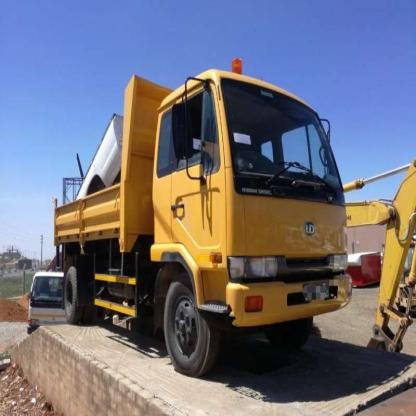dump_truck: (49, 67, 353, 382)
